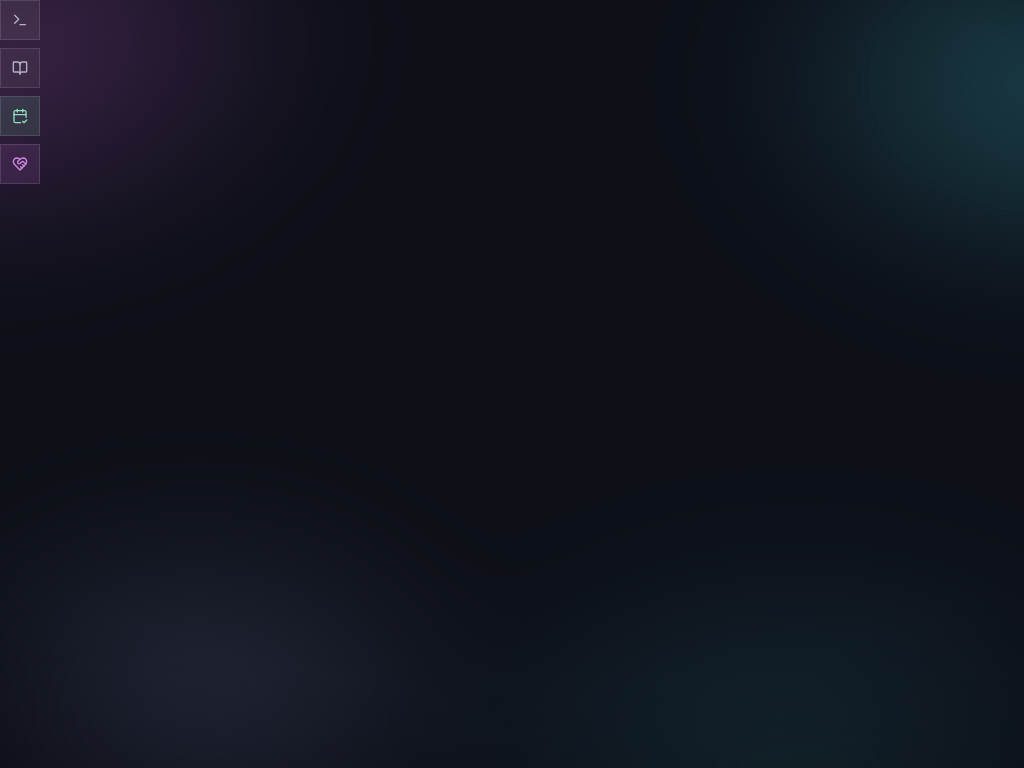
Scenario: RightRail › searches platform docs from the Documentation panel and renders hits
Click the button with test id "rail-docs" at x=20, y=68, box [0,48,40,88]
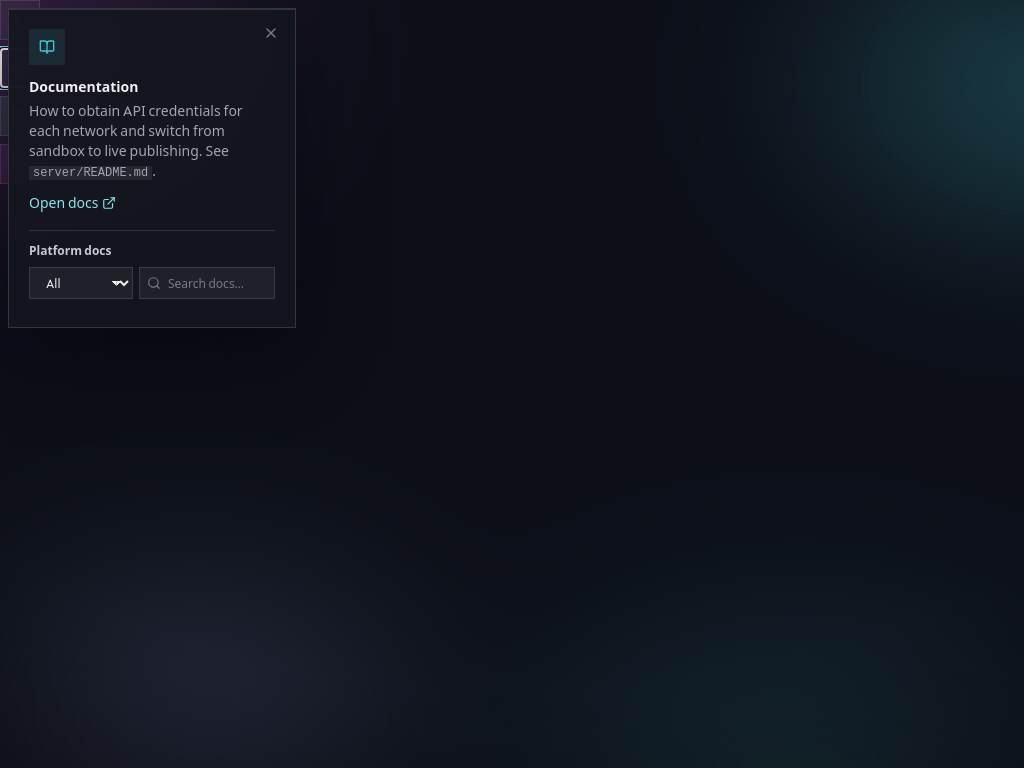
Type "oauth" into the search field named "Search platform docs" at x=207, y=283, box [139,267,275,299]
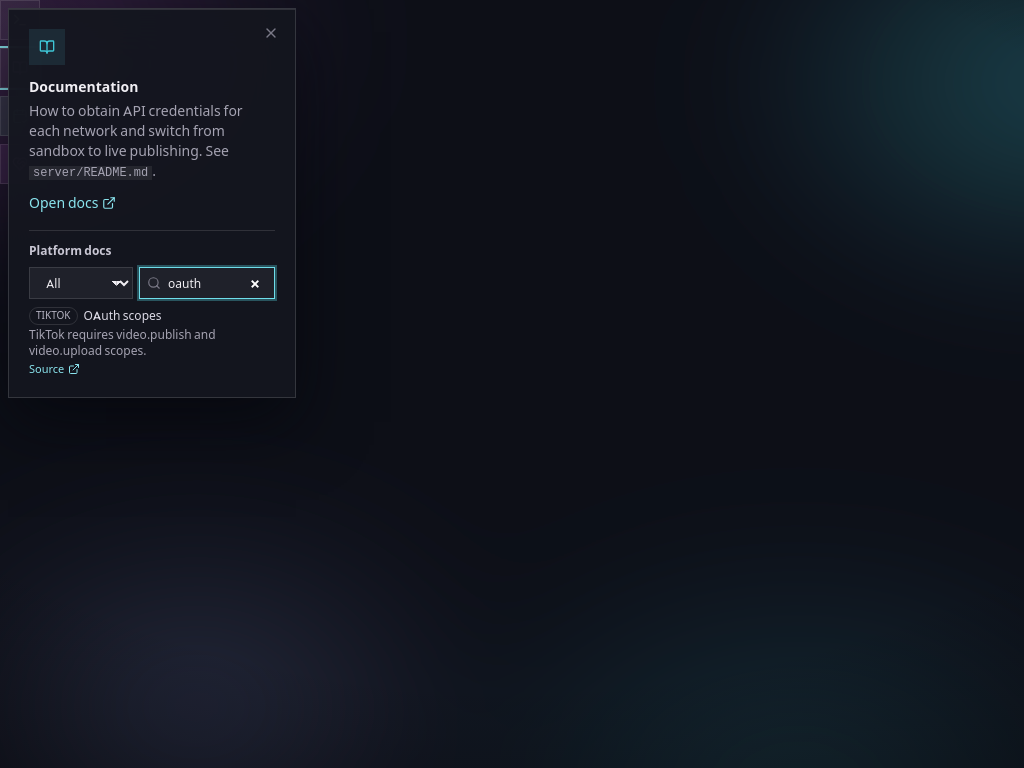
Expected: the element with test id "platform-docs-hit" shows "OAuth scopes", [84,308,162,323]
Expected: the element with test id "platform-docs-hit" shows "tiktok", [36,309,70,322]
Expected: the element with test id "platform-docs-hit" shows "TikTok requires video.publish", [29,327,216,358]
